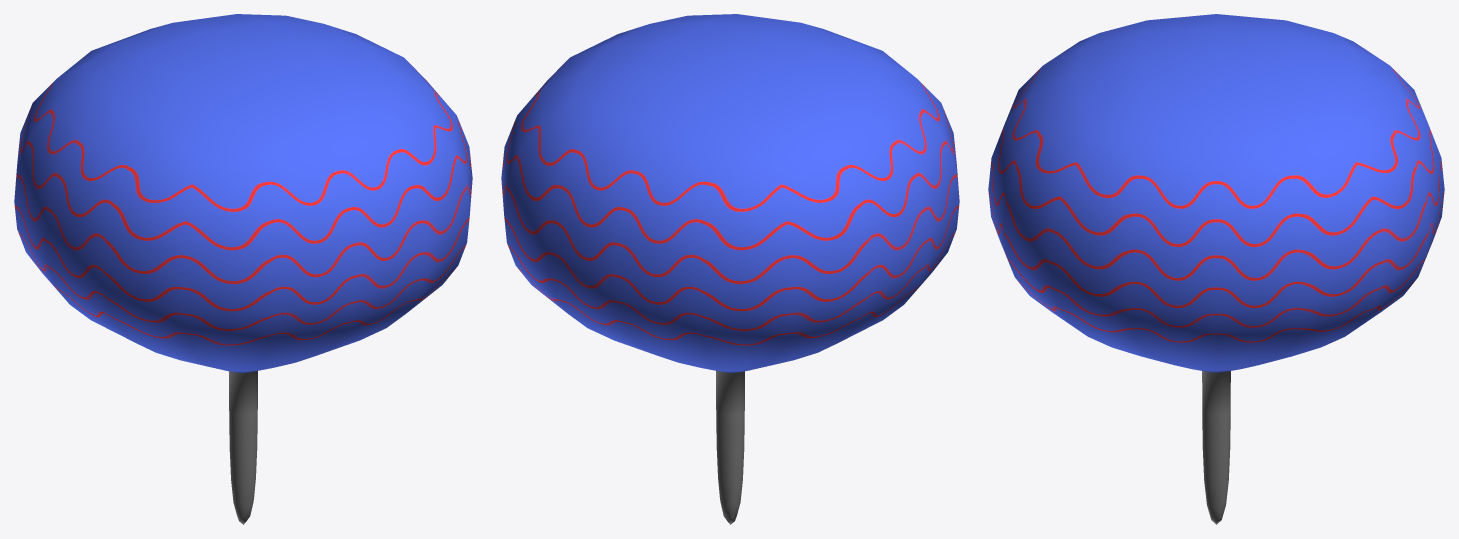
File: Turumpo_Enemy_V1.fbx
The picture shows the model from 3 angles, left to right: view 1: azimuth 30°, elevation 25°; view 2: azimuth 150°, elevation 25°; view 3: azimuth 270°, elevation 25°; orthographic projection.
Parts seen in each view (by area): view 1: Cube; view 2: Cube; view 3: Cube.
Boxes of the visible parts, x1=… form: Cube: x1=14, y1=14, x2=472, y2=524; Cube: x1=501, y1=14, x2=959, y2=524; Cube: x1=988, y1=14, x2=1444, y2=524.
Size of the model in its own units: 84.13 by 95.56 by 84.13.
Materials: 3 (1 with a texture image).
